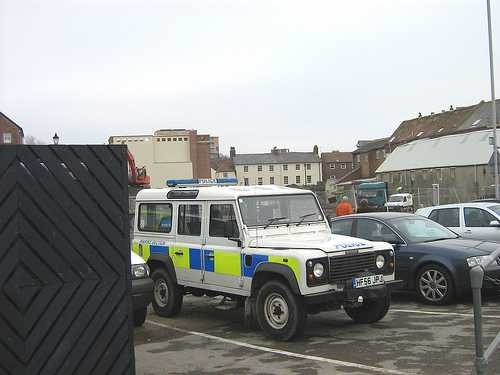Police Car: (135, 162, 398, 335)
